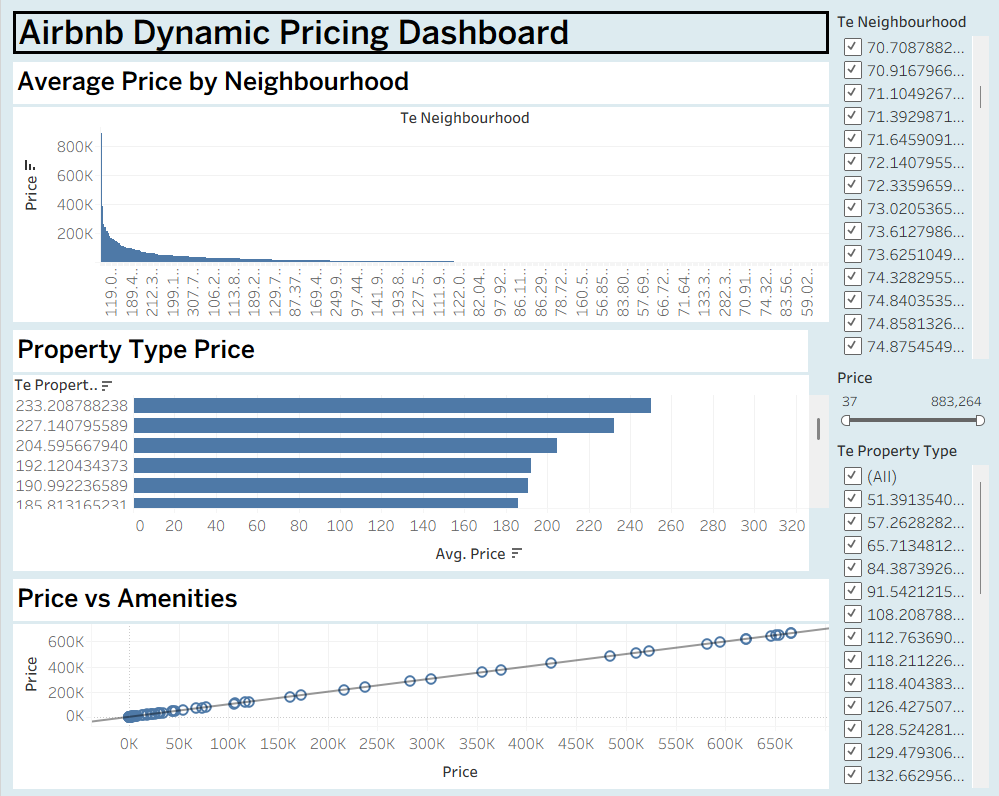

The dashboard page shown, as its layout file describes it:
{"tool":"tableau","page":{"name":"Dashboard 1","canvas":[1000,1000],"units":"permille","ordinal":0},"visuals":[{"type":"title","box":[8,10,824,63.6]},{"type":"filter","title":"Sheet 1","param":"[federated.19pdb4j0dgf9fa17u1ufk12iz7jq].[none:te_neighbourhood:ok]","box":[832,10,160,444.5]},{"type":"worksheet","title":"Sheet 1","mark":"Automatic","rows":["price"],"cols":["te_neighbourhood"],"box":[8,73.6,824,334.1]},{"type":"worksheet","title":"Sheet 2","mark":"Automatic","rows":["te_property_type"],"cols":["price"],"box":[8,407.7,824,310.5]},{"type":"filter","title":"Sheet 1","param":"[federated.19pdb4j0dgf9fa17u1ufk12iz7jq].[sum:price:qk]","box":[832,454.5,160,91]},{"type":"filter","title":"Sheet 2","param":"[federated.19pdb4j0dgf9fa17u1ufk12iz7jq].[none:te_property_type:ok]","box":[832,545.5,160,444.5]},{"type":"worksheet","title":"Sheet 3","mark":"Automatic","rows":["price"],"cols":["price"],"box":[8,718.2,824,271.8]}]}

Visuals, with their boxes on the dashboard's canvas, which has no fixed pixel size, in thousandths of its width and height (x1, y1, x2, y2). These are canvas units, not pixel positions in the 999x796 screenshot, which may show the page scaled, cropped or inside an application window:
title: select_region(8, 10, 832, 74)
"Sheet 1" filter: select_region(832, 10, 992, 454)
"Sheet 1" worksheet: select_region(8, 74, 832, 408)
"Sheet 2" worksheet: select_region(8, 408, 832, 718)
"Sheet 1" filter: select_region(832, 454, 992, 546)
"Sheet 2" filter: select_region(832, 546, 992, 990)
"Sheet 3" worksheet: select_region(8, 718, 832, 990)
